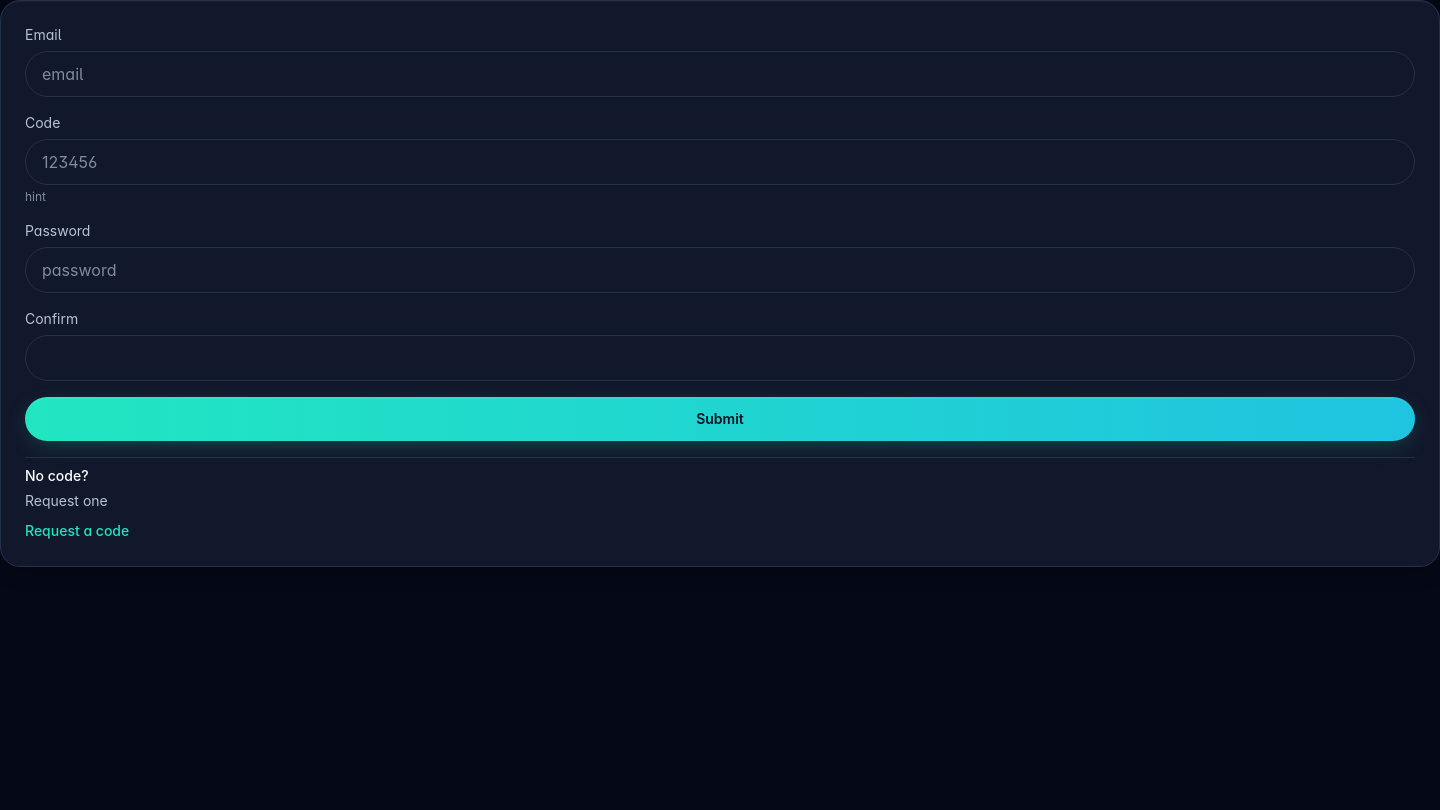
Test: ResetPasswordForm › rate-limited verifyOtp shows the rate-limit copy with a retry path (form stays usable)
In the field labelled "Email": point(720, 74) [25,51,1415,97], type "user-a@example.com"
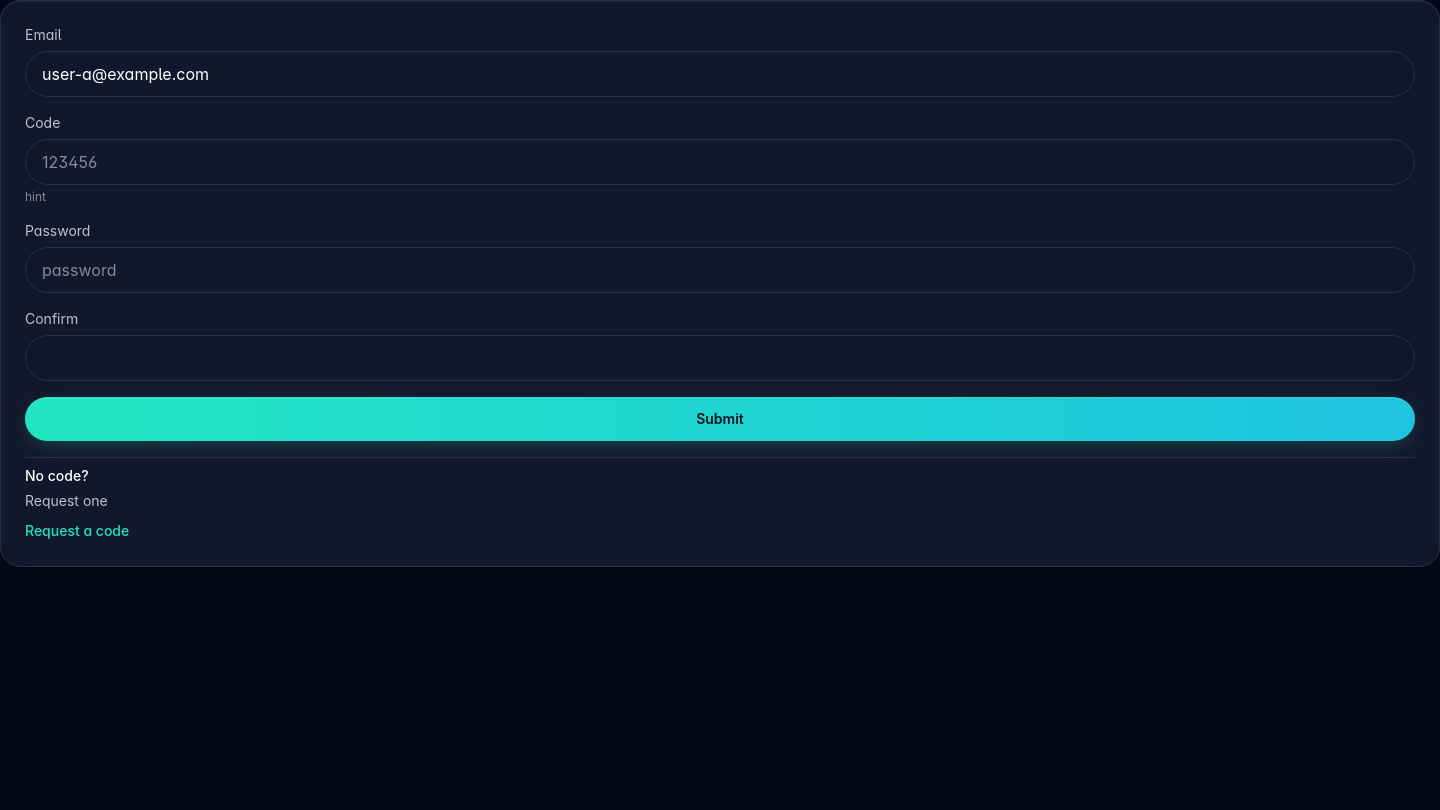
In the field labelled "Code": point(720, 162) [25,139,1415,185], type "654321"
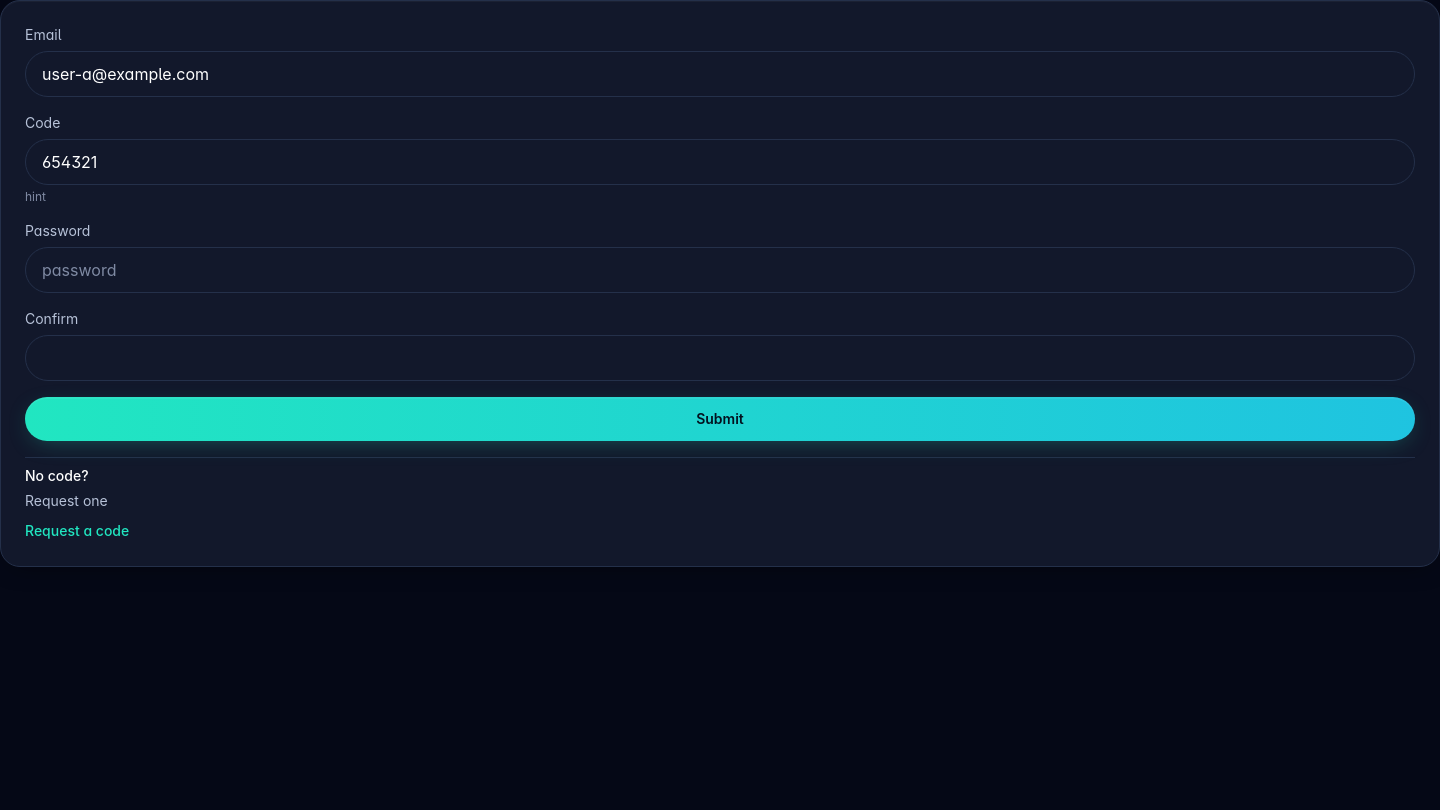
In the password field labelled "Password": point(720, 270) [25,247,1415,293], type "brand-new-password"
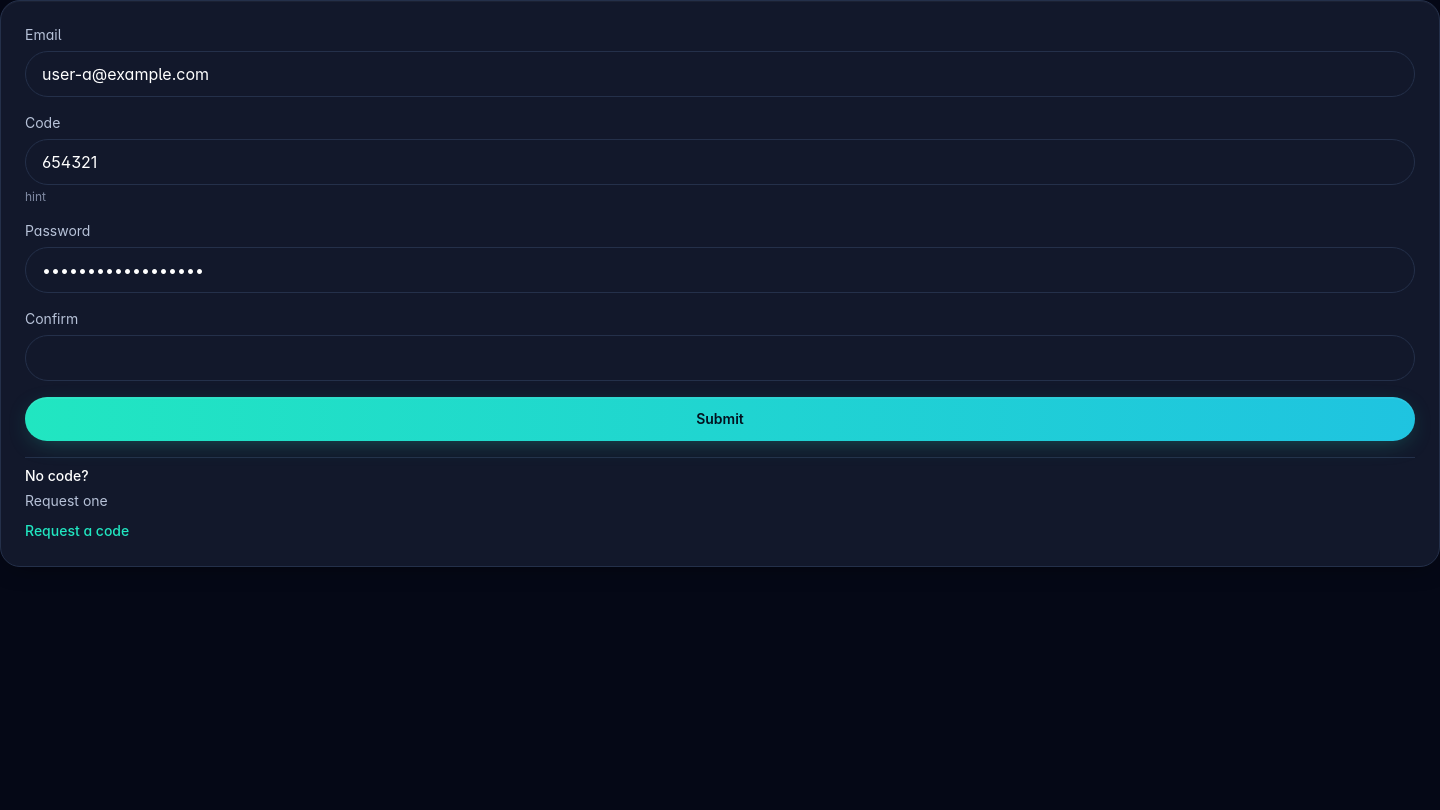
In the password field labelled "Confirm": point(720, 358) [25,335,1415,381], type "brand-new-password"
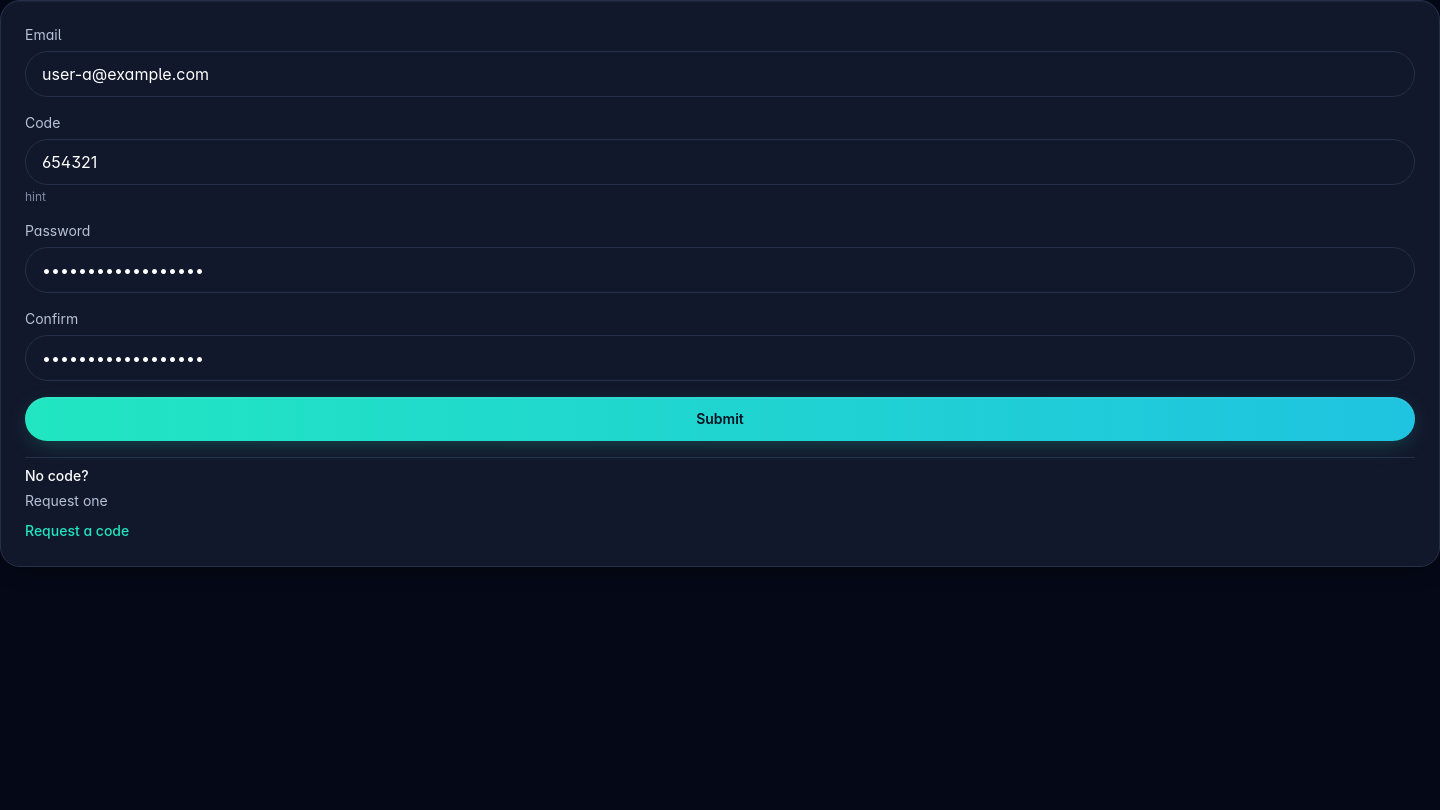
Click the button "Submit": point(720, 419) [25,397,1415,441]
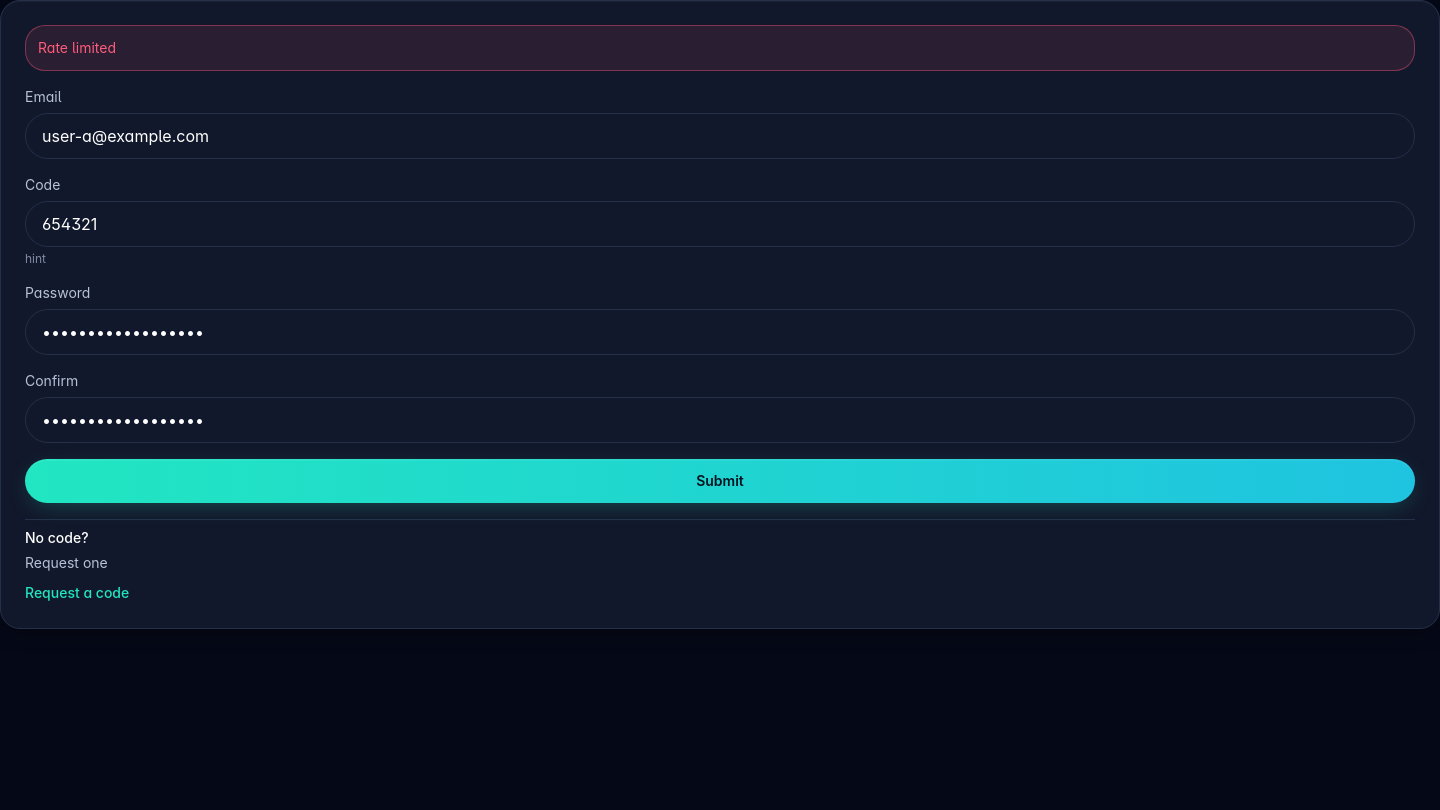
Expected: the button "Submit" is enabled, [25,459,1415,503]
Result: the text "Rate limited" is shown at [25,25,1415,71]
